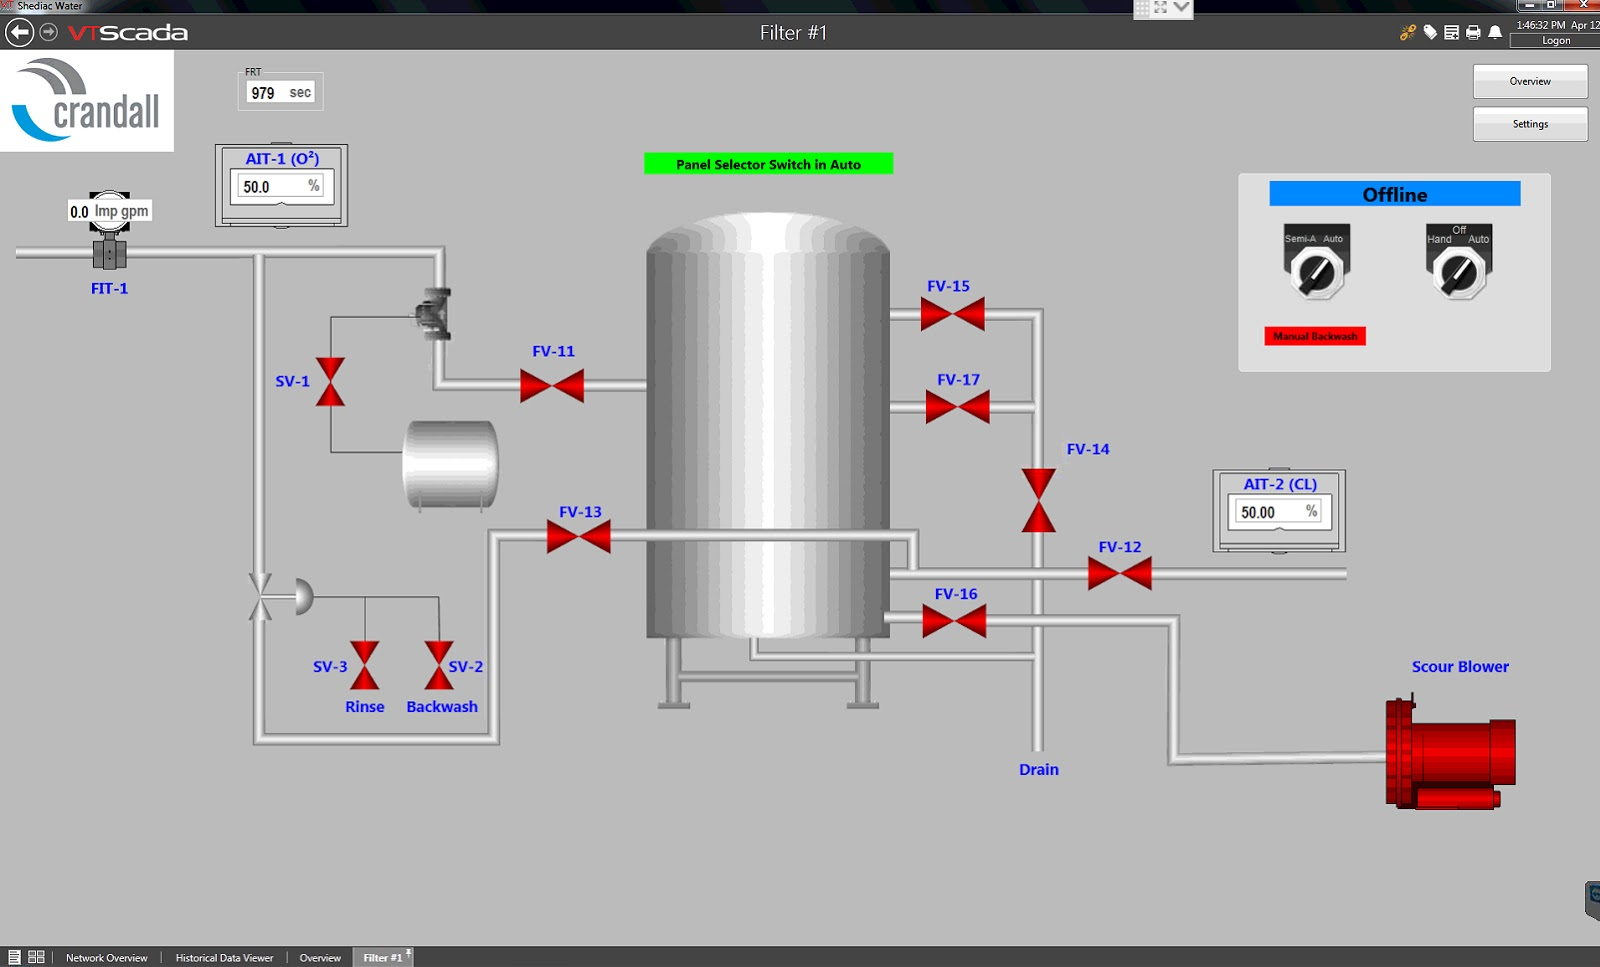button: (1465, 56, 1597, 101), (1471, 103, 1594, 150)
pipe: (245, 233, 277, 746), (1207, 473, 1355, 553), (1029, 289, 1050, 753), (471, 524, 933, 545), (863, 608, 1192, 634), (7, 241, 455, 258), (734, 647, 1041, 668), (875, 566, 1353, 578), (483, 520, 511, 738), (195, 726, 507, 744), (229, 150, 336, 200), (424, 373, 653, 395), (1155, 746, 1395, 768), (424, 226, 451, 408), (235, 66, 330, 113), (878, 393, 1054, 418), (61, 191, 162, 233), (882, 302, 1061, 323), (1163, 602, 1183, 772), (903, 516, 919, 581), (741, 631, 765, 660)
value: (1233, 500, 1296, 520), (239, 175, 279, 200), (250, 82, 285, 107), (69, 200, 97, 229)
valve: (235, 566, 322, 625), (511, 358, 602, 410), (539, 516, 621, 565), (912, 602, 1001, 646), (336, 629, 393, 694), (1014, 458, 1061, 537), (907, 297, 994, 338), (1082, 553, 1160, 599), (917, 389, 1001, 424), (314, 338, 351, 418), (421, 631, 458, 697)
